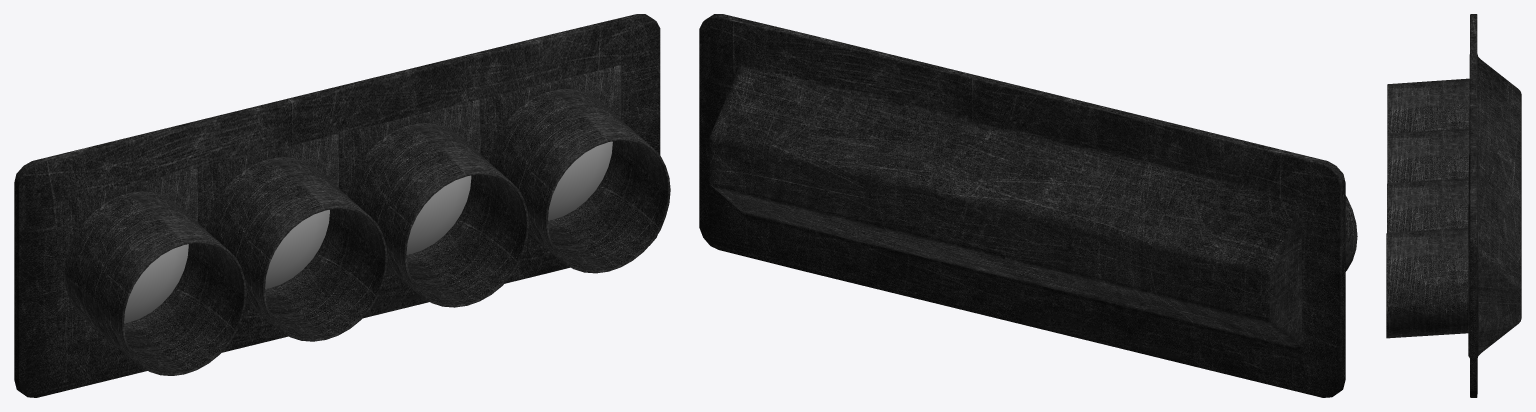
Rendered from TrafficSignalHorizontalFullConeBlack4.fbx.
3 views of the same model, side by side, from view 1: azimuth 30°, elevation 25°; view 2: azimuth 150°, elevation 25°; view 3: azimuth 270°, elevation 25° (orthographic). The views are drawn at different scales.
Visible parts, largest first — view 1: Casing, SignalLight1, SignalLight3, SignalLight2, SignalLight0; view 2: Casing; view 3: Casing.
Part boxes in pixels (x1,y1,x2,y2): Casing: (14,14,670,397); SignalLight1: (265,210,329,288); SignalLight3: (548,141,612,220); SignalLight2: (406,175,471,254); SignalLight0: (124,244,188,323); Casing: (699,14,1357,397); Casing: (1386,14,1521,397).
Size of the model in its own units: 1.88 by 0.6568 by 0.4767.
